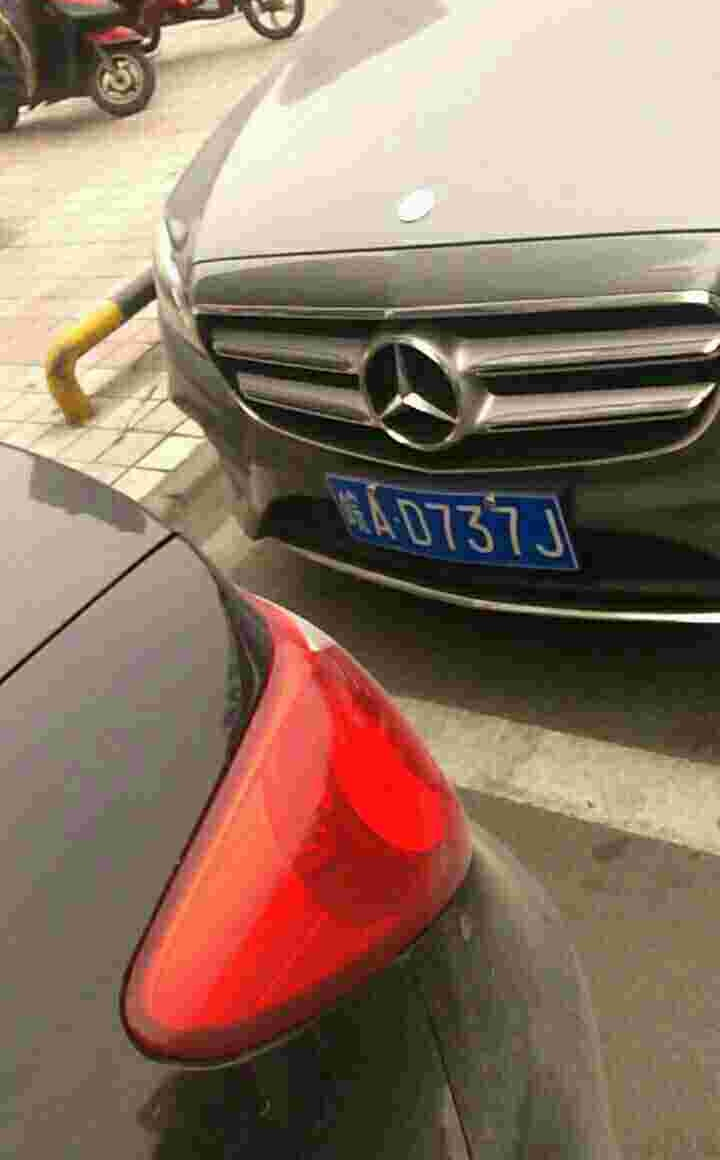license_plate: (329, 481, 579, 581)
